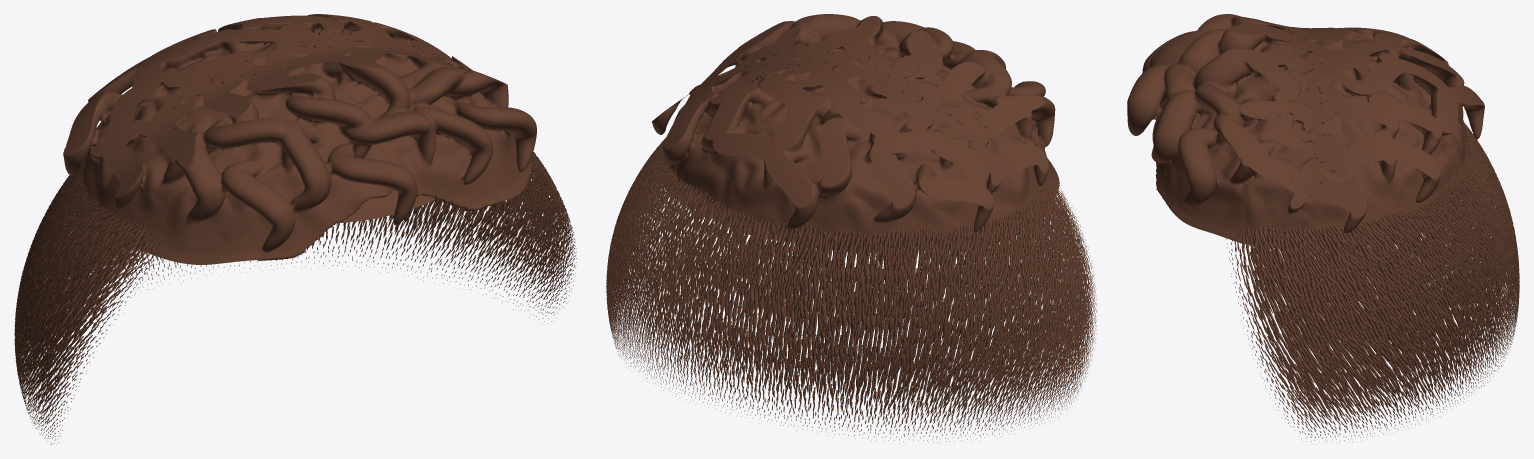
The model's file is Masculine-curly-top-pashmina254-hair.glb.
3 renders of one model, left to right at view 1: azimuth 30°, elevation 25°; view 2: azimuth 150°, elevation 25°; view 3: azimuth 270°, elevation 25°, orthographic. The views are drawn at different scales.
Visible parts, largest first — view 1: 226 hair / Hair252 / sculpted curl groups, 226 hair / Hair254 / rooted short groom; view 2: 226 hair / Hair254 / rooted short groom, 226 hair / Hair252 / sculpted curl groups; view 3: 226 hair / Hair252 / sculpted curl groups, 226 hair / Hair254 / rooted short groom.
Boxes of the visible parts, left/top/right/bottom form: 226 hair / Hair252 / sculpted curl groups: left=63, top=14, right=536, bottom=264; 226 hair / Hair254 / rooted short groom: left=14, top=152, right=576, bottom=444; 226 hair / Hair254 / rooted short groom: left=606, top=138, right=1097, bottom=444; 226 hair / Hair252 / sculpted curl groups: left=652, top=14, right=1059, bottom=252; 226 hair / Hair252 / sculpted curl groups: left=1127, top=14, right=1484, bottom=247; 226 hair / Hair254 / rooted short groom: left=1152, top=121, right=1519, bottom=444.
Bounding box in the file's own units: 0.9716 × 0.6354 × 0.7501.
